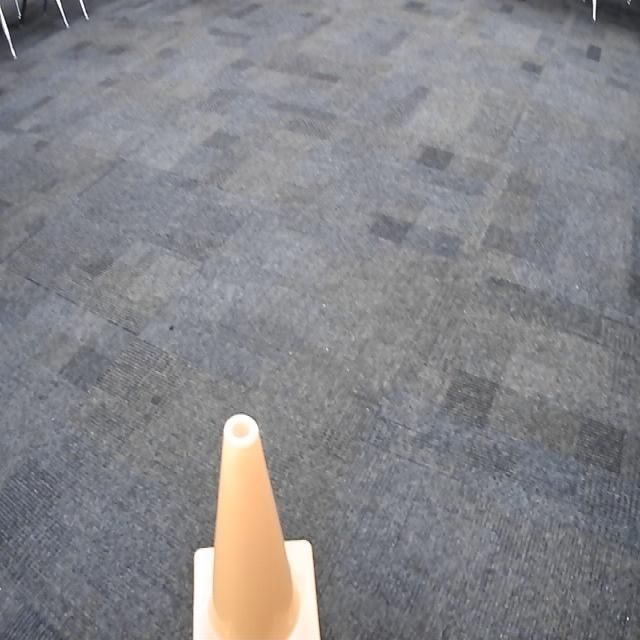cone: (192, 413, 324, 640)
